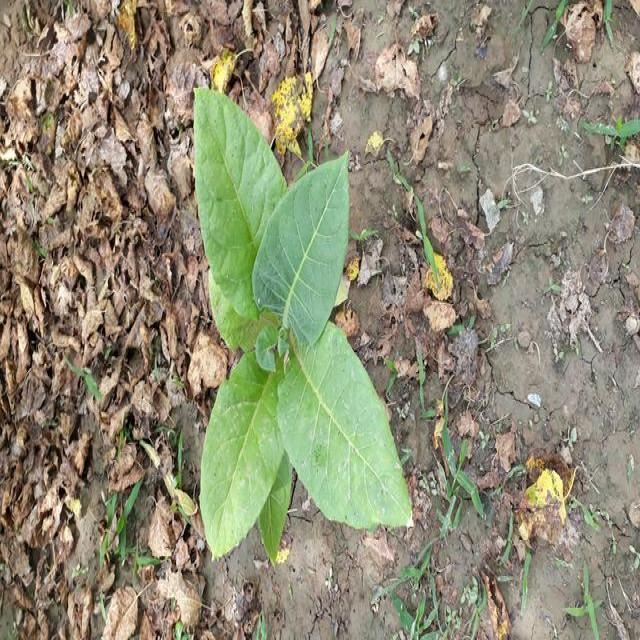crop: (189, 85, 412, 566)
